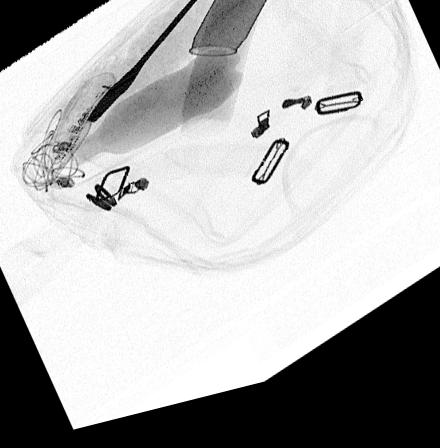Wrench: (85, 0, 208, 130)
